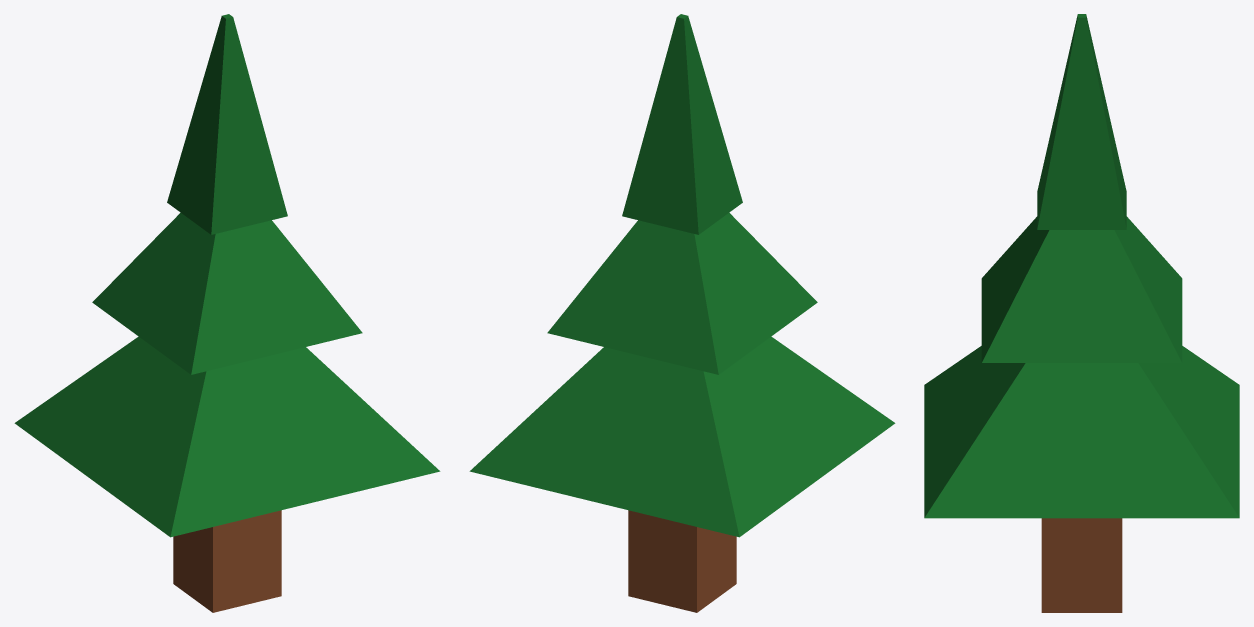
3 views of the same model, side by side, from view 1: azimuth 30°, elevation 25°; view 2: azimuth 150°, elevation 25°; view 3: azimuth 270°, elevation 25° (orthographic).
Visible parts, largest first — view 1: Cube.005; view 2: Cube.005; view 3: Cube.005.
Boxes of the visible parts, <box> form: Cube.005: <box>14,14,440,612</box>; Cube.005: <box>469,14,895,612</box>; Cube.005: <box>924,14,1239,612</box>.
Size of the model in its own units: 4.58 by 9.29 by 4.58.
